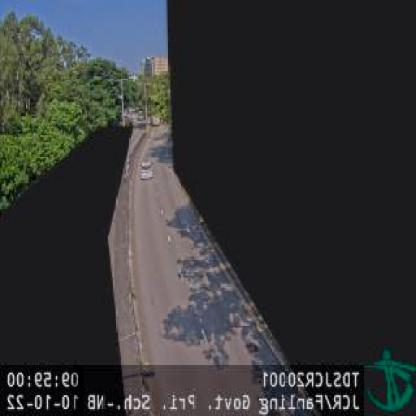Car: (140, 160, 150, 178)
